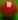red: (0, 0, 18, 20)
